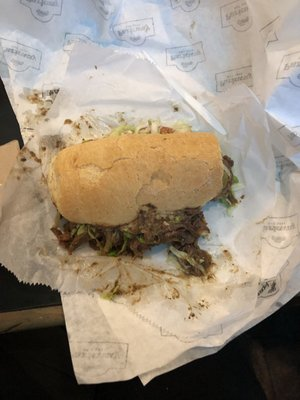soup: (0, 113, 268, 384), (12, 128, 247, 342)
